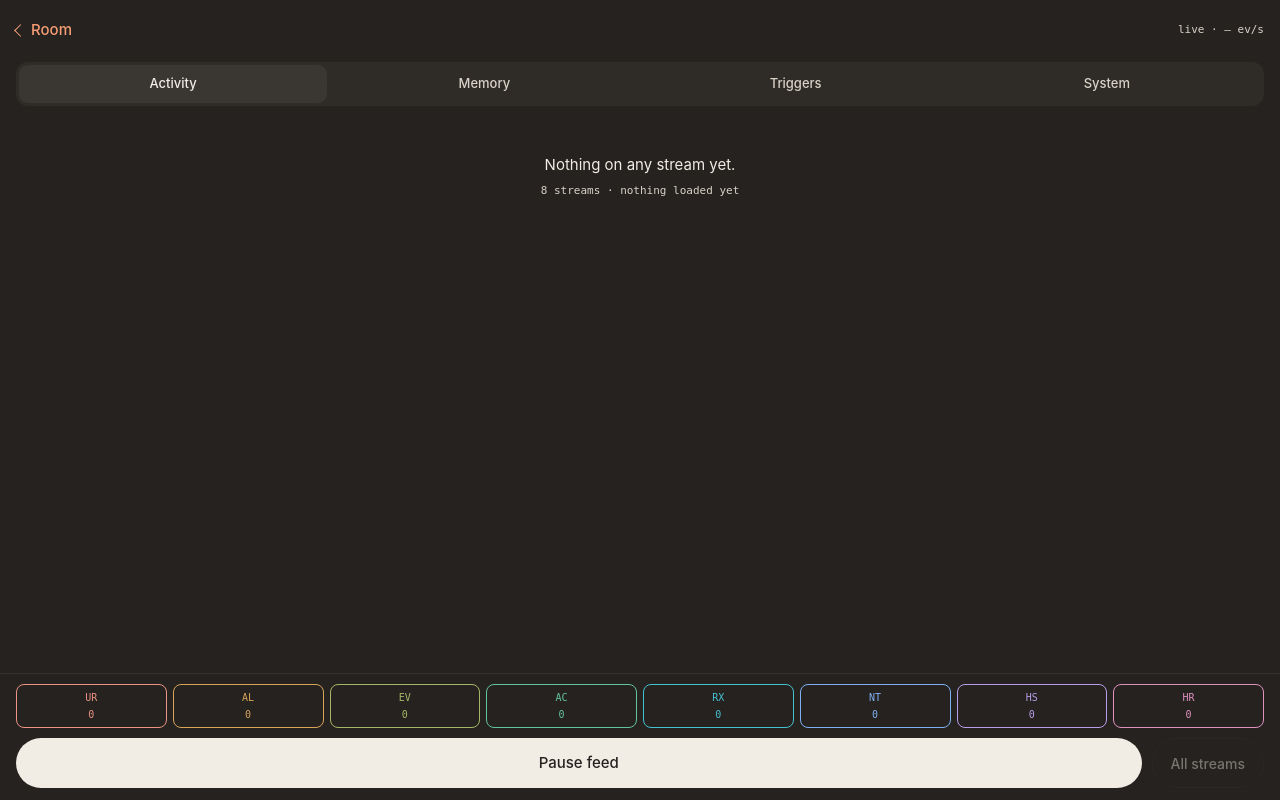
Test case: Workshop › announces the connection from the header, whichever bench is up
The image size is (1280, 800).
What coordinates should you click on to do the following:
click the tab "Memory"
I would click on:
 (484, 84)
Its box is top-left (330, 65), bottom-right (639, 103).
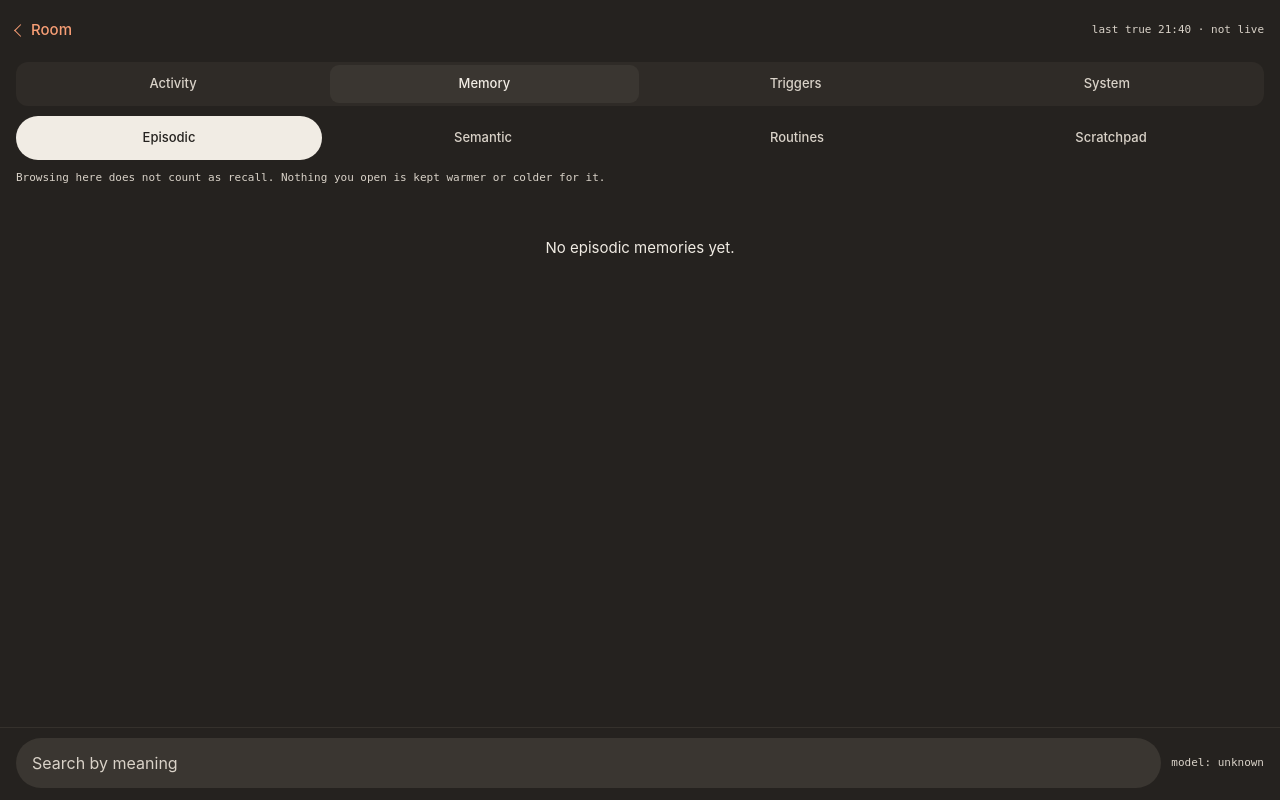
Check: the message with test id "workshop-state" reads "last true 21:40 · not live", box top-left (1092, 23), bottom-right (1264, 36)
